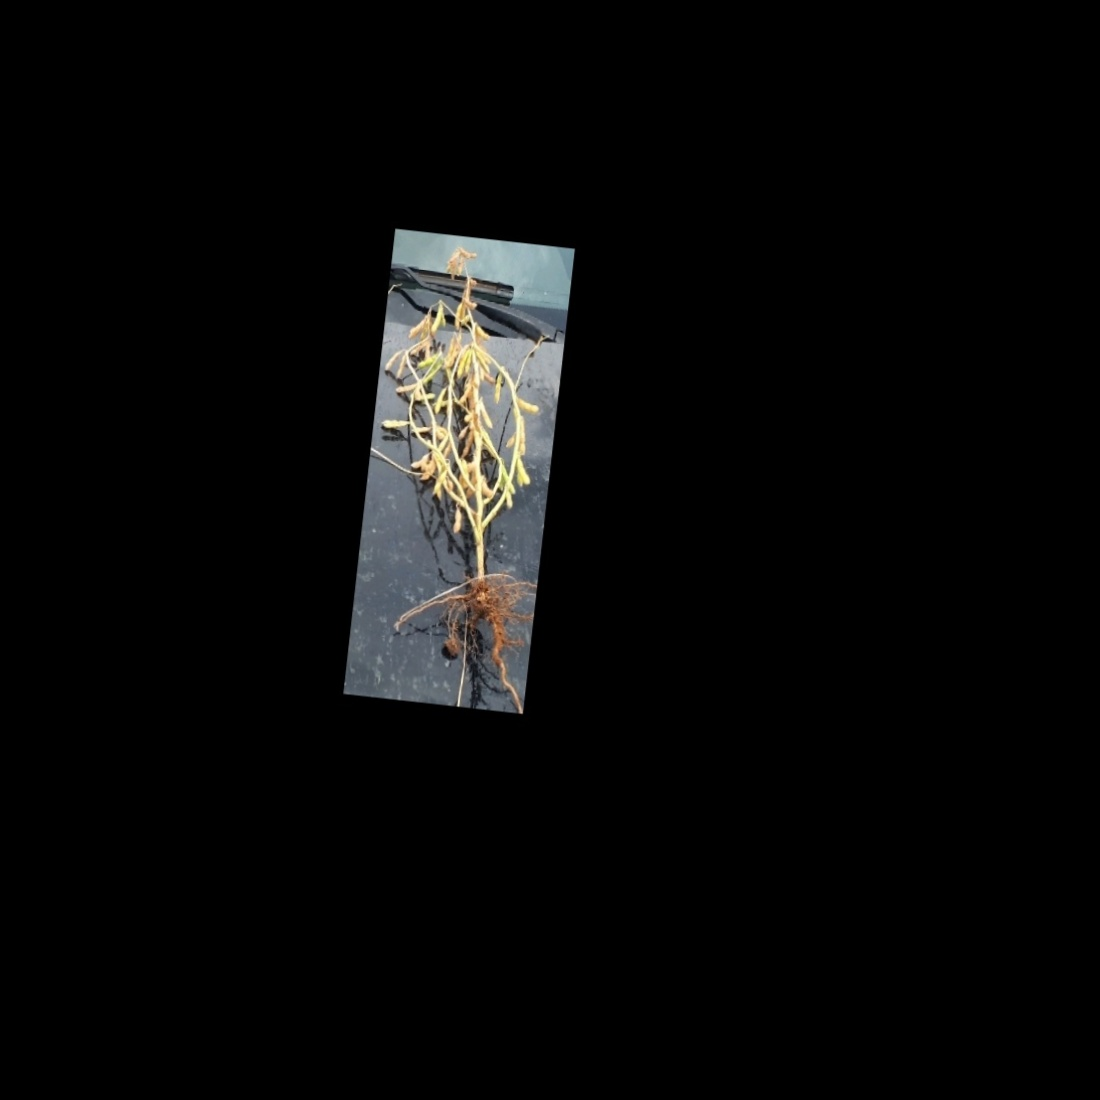pod: (513, 454, 535, 487), (515, 395, 542, 415), (477, 398, 496, 428), (380, 415, 409, 433), (449, 505, 465, 536), (394, 350, 409, 381), (430, 302, 444, 335), (473, 323, 494, 343)
soy: (343, 236, 564, 700)
